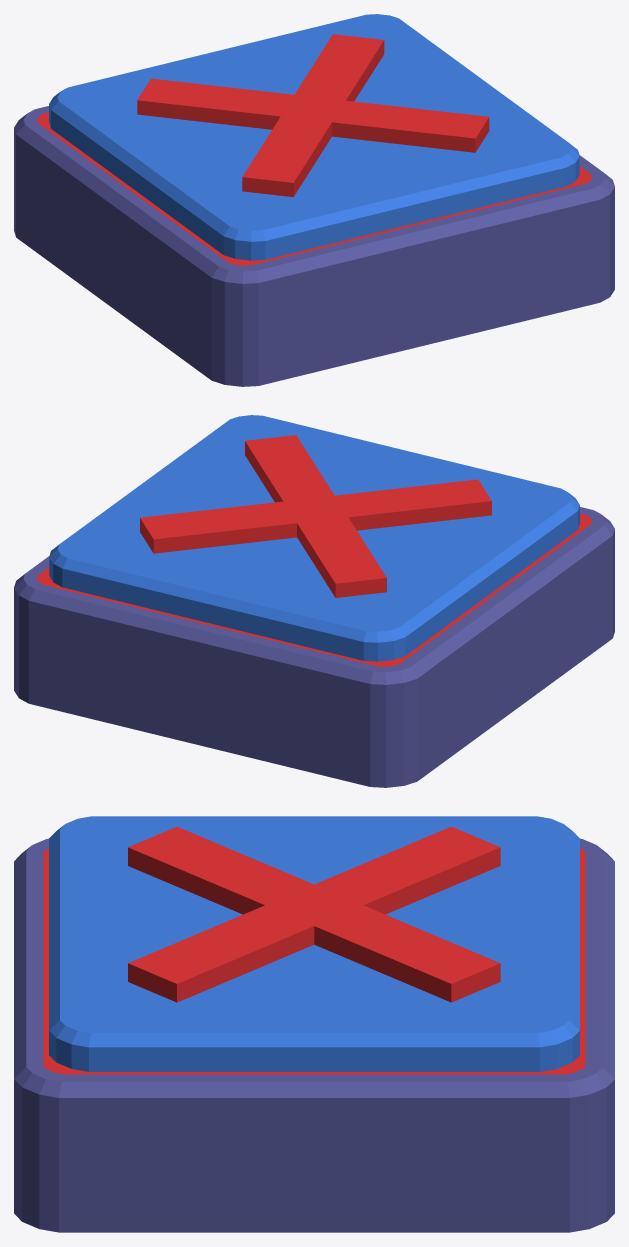
The model's file is ButtonActivateDoors.fbx.
3 views of the same model, one above another, from view 1: azimuth 30°, elevation 25°; view 2: azimuth 150°, elevation 25°; view 3: azimuth 270°, elevation 25° (orthographic). The views are drawn at different scales.
Visible parts, largest first — view 1: Plane.016, Plane.015; view 2: Plane.016, Plane.015; view 3: Plane.016, Plane.015.
Boxes of the visible parts, x1,y1,x2,y2 form: Plane.016: (49, 14, 579, 260); Plane.015: (14, 106, 614, 386); Plane.016: (49, 415, 579, 661); Plane.015: (14, 507, 614, 787); Plane.016: (49, 816, 579, 1071); Plane.015: (14, 838, 614, 1232).
Bounding box in the file's own units: 230 × 83.16 × 228.
